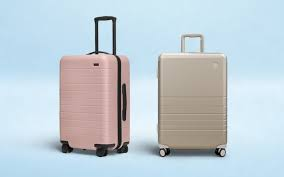suitcase: (56, 16, 133, 157), (154, 33, 231, 160)
